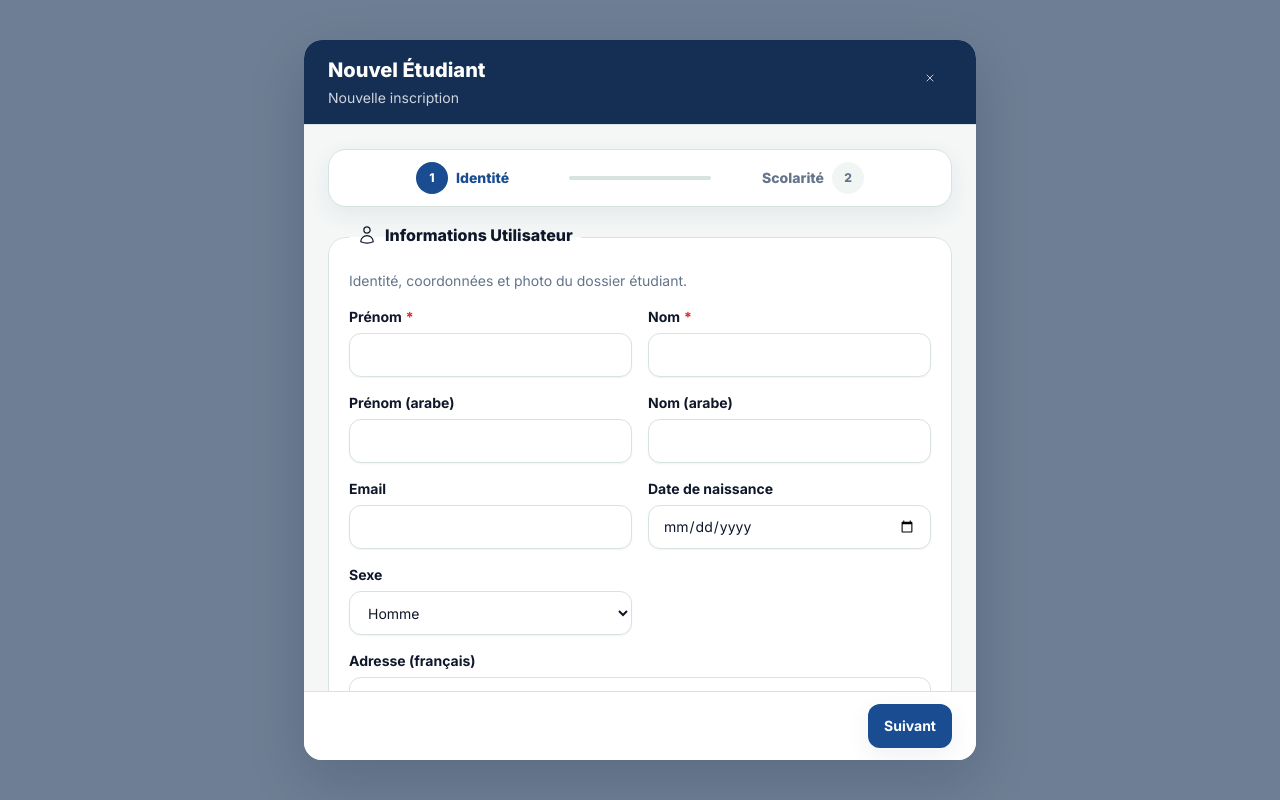
Test: Student form modal UI foundation migration › announces validation errors beside required controls and focuses the first invalid field
Click the button "Suivant": [910, 726] box [868,704,952,748]
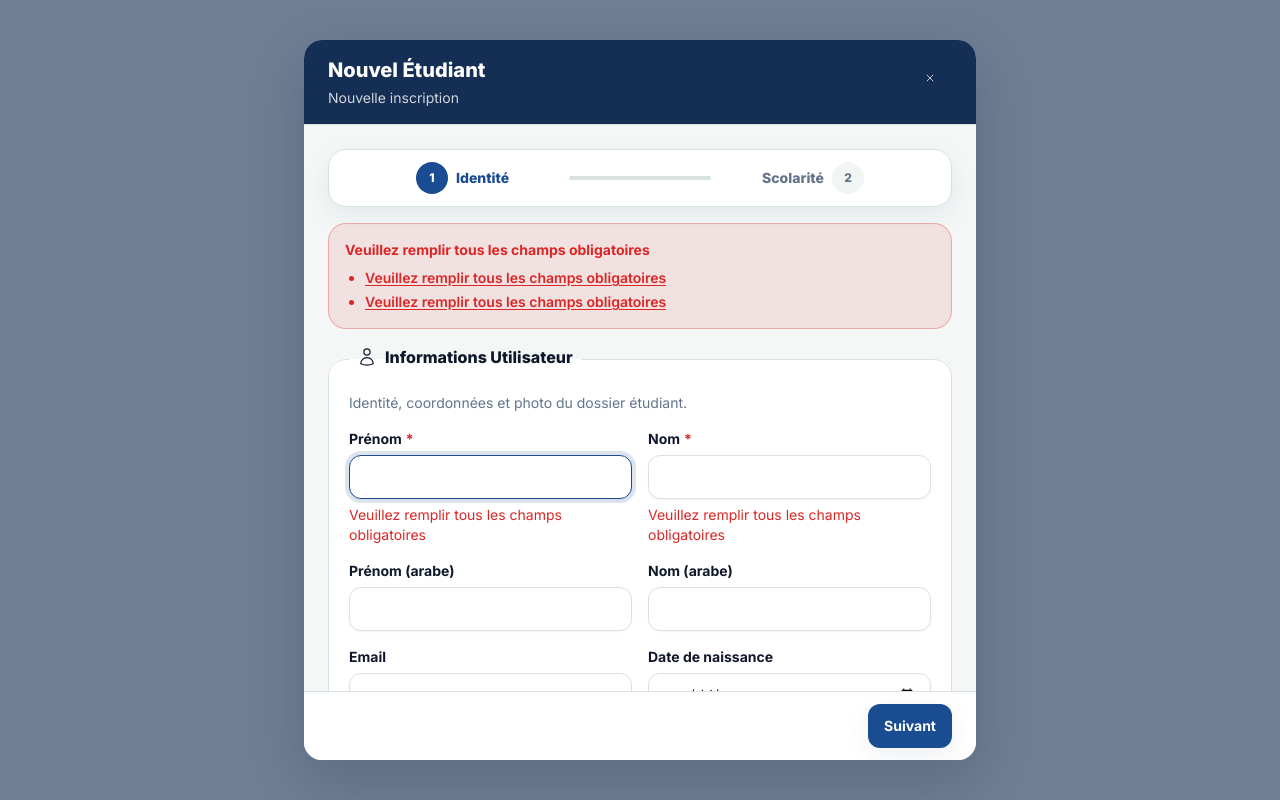
Now the message shows "Veuillez remplir tous les champs obligatoires", box [345,241,650,258]
